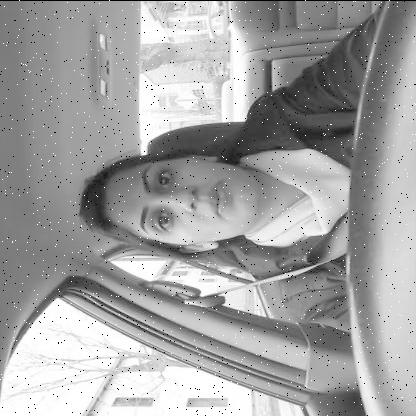seatbelt: (68, 142, 349, 312)
